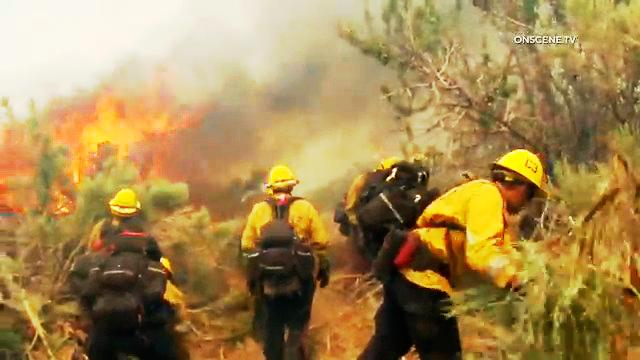fire: (0, 76, 186, 184)
